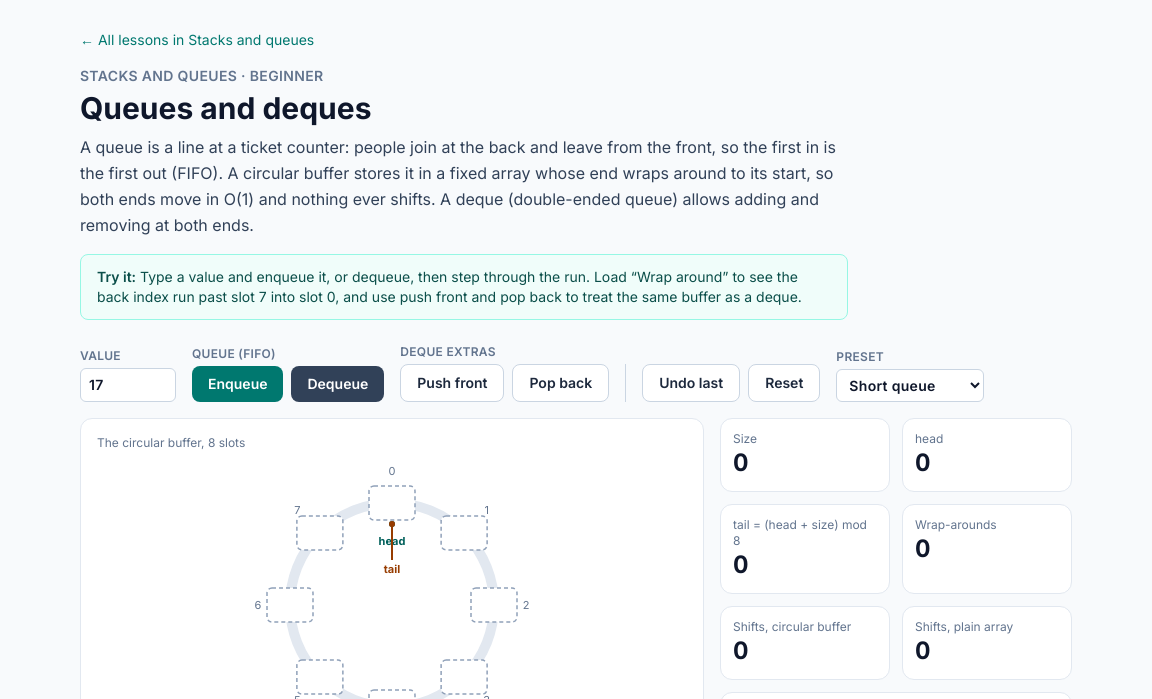
Test: queues and deques lesson › wraps the tail into slot 0
The width and height of the screenshot is (1152, 699).
Step 1. Select "Wrap around" in the dropdown labelled "Preset" → [910, 386], box [836,369,984,402]
(page scrolled)
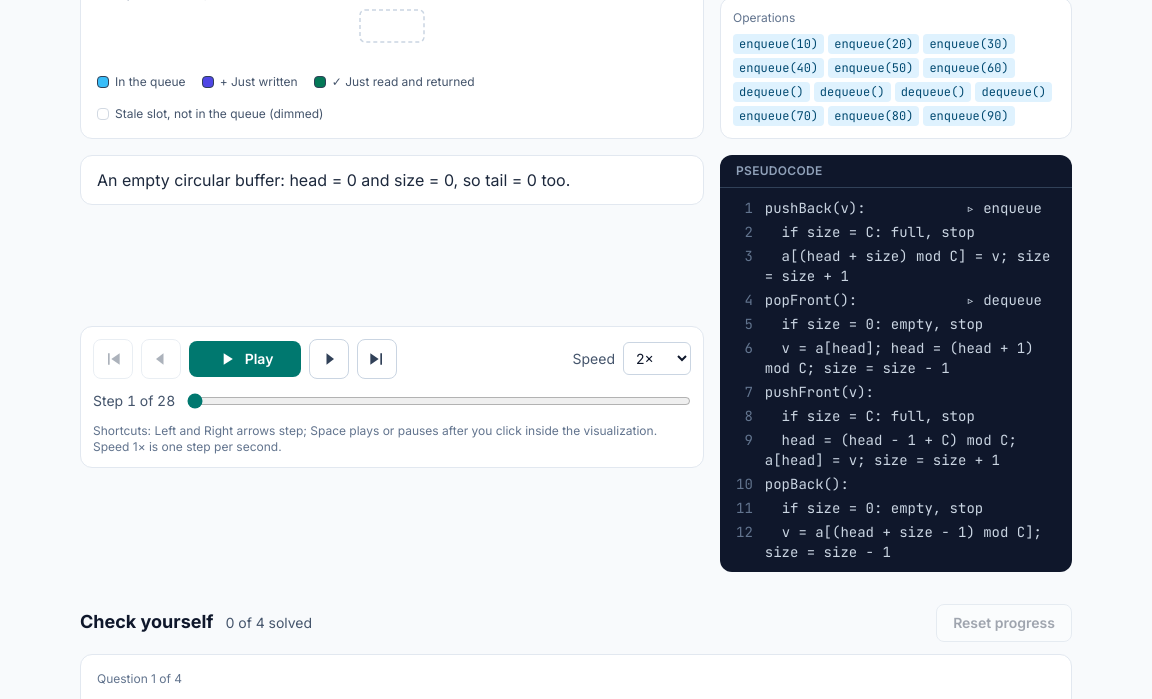
Step 2. Click the button named "Last step" → [377, 358], box [357,338,397,378]
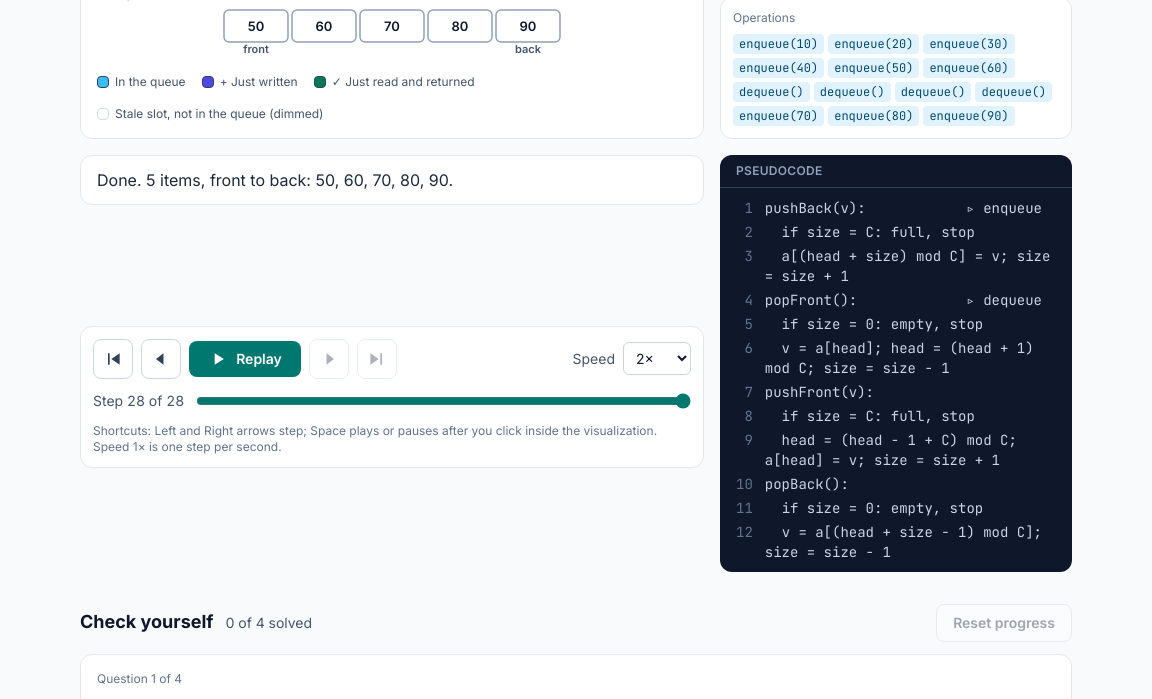
Step 3. Click the button named "Previous step" → [161, 358], box [141,338,181,378]
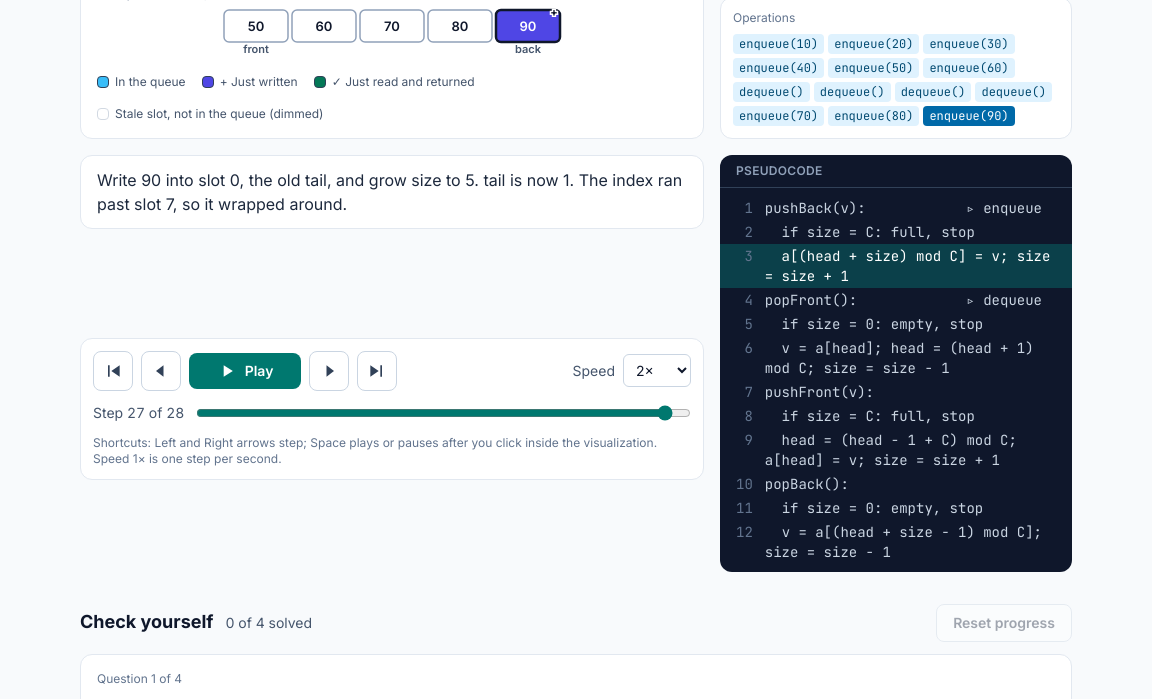
Expected: the text "Write 90 into slot 0" is shown, [97,170,682,214]
Expected: the text "wrapped around" is shown, [97,170,682,214]
